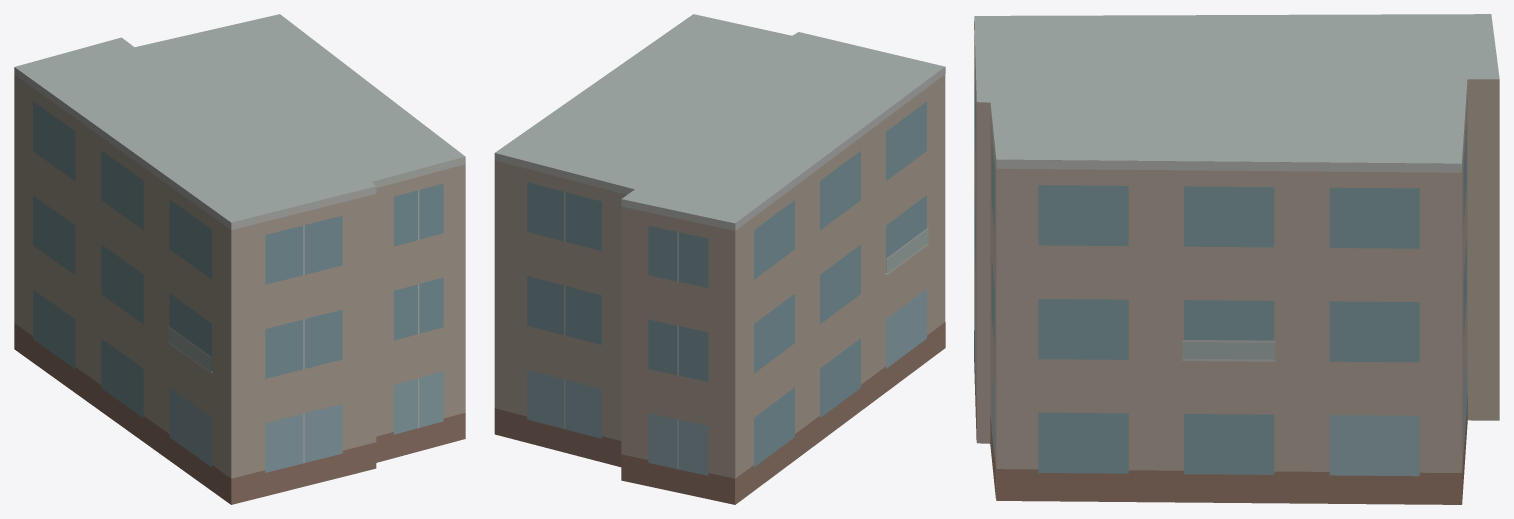
The model's file is survey-upis-32678171.glb.
3 views of the same model, side by side, from view 1: azimuth 30°, elevation 25°; view 2: azimuth 150°, elevation 25°; view 3: azimuth 270°, elevation 25° (orthographic). The views are drawn at different scales.
Visible parts, largest first — view 1: survey-upis-32678171.tmp; view 2: survey-upis-32678171.tmp; view 3: survey-upis-32678171.tmp.
Part boxes in pixels (x1,y1,x2,y2): survey-upis-32678171.tmp: (14,14,465,504); survey-upis-32678171.tmp: (494,14,945,504); survey-upis-32678171.tmp: (974,14,1499,504).
Size of the model in its own units: 8.61 by 9.15 by 12.78.
